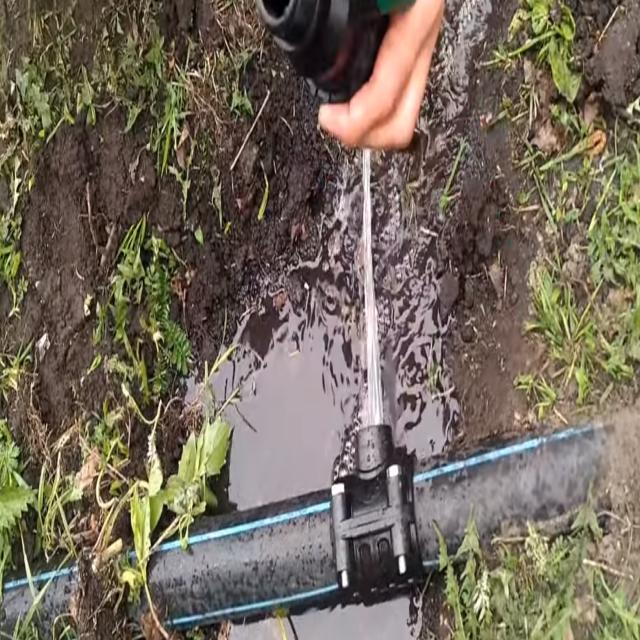leak: (362, 149, 384, 424)
